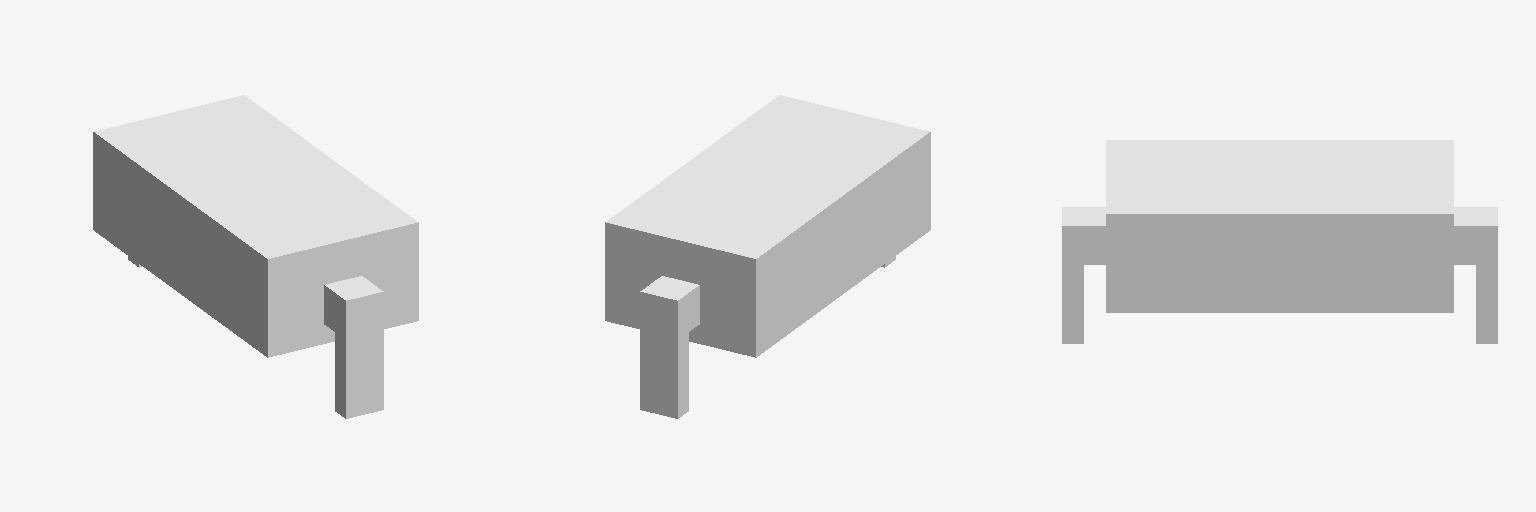
File: rez2.obj
3 views of the same model, side by side, from view 1: azimuth 30°, elevation 25°; view 2: azimuth 150°, elevation 25°; view 3: azimuth 270°, elevation 25° (orthographic).
Parts seen in each view (by area): view 1: object 1; view 2: object 1; view 3: object 1.
Boxes of the visible parts, x1=… form: object 1: x1=93, y1=95, x2=418, y2=418; object 1: x1=605, y1=95, x2=930, y2=418; object 1: x1=1062, y1=140, x2=1497, y2=343.
Bounding box in the file's own units: 0.8 × 0.8 × 2.